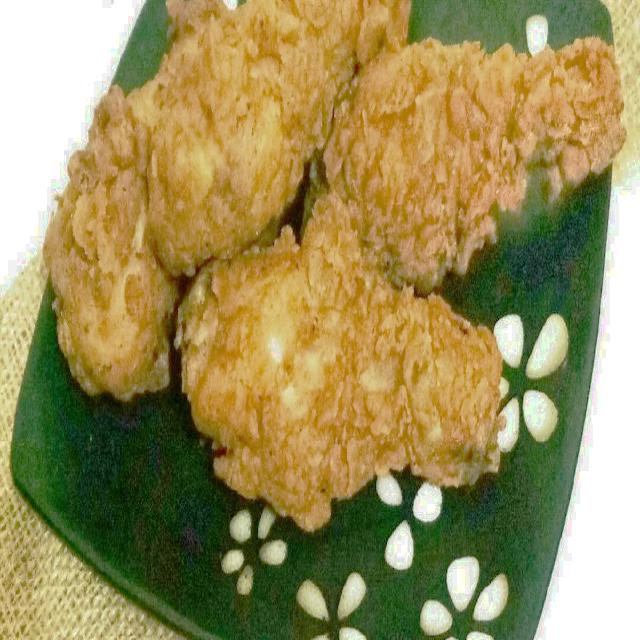fried_chicken: (43, 0, 411, 393), (183, 229, 500, 520), (335, 15, 621, 288)
